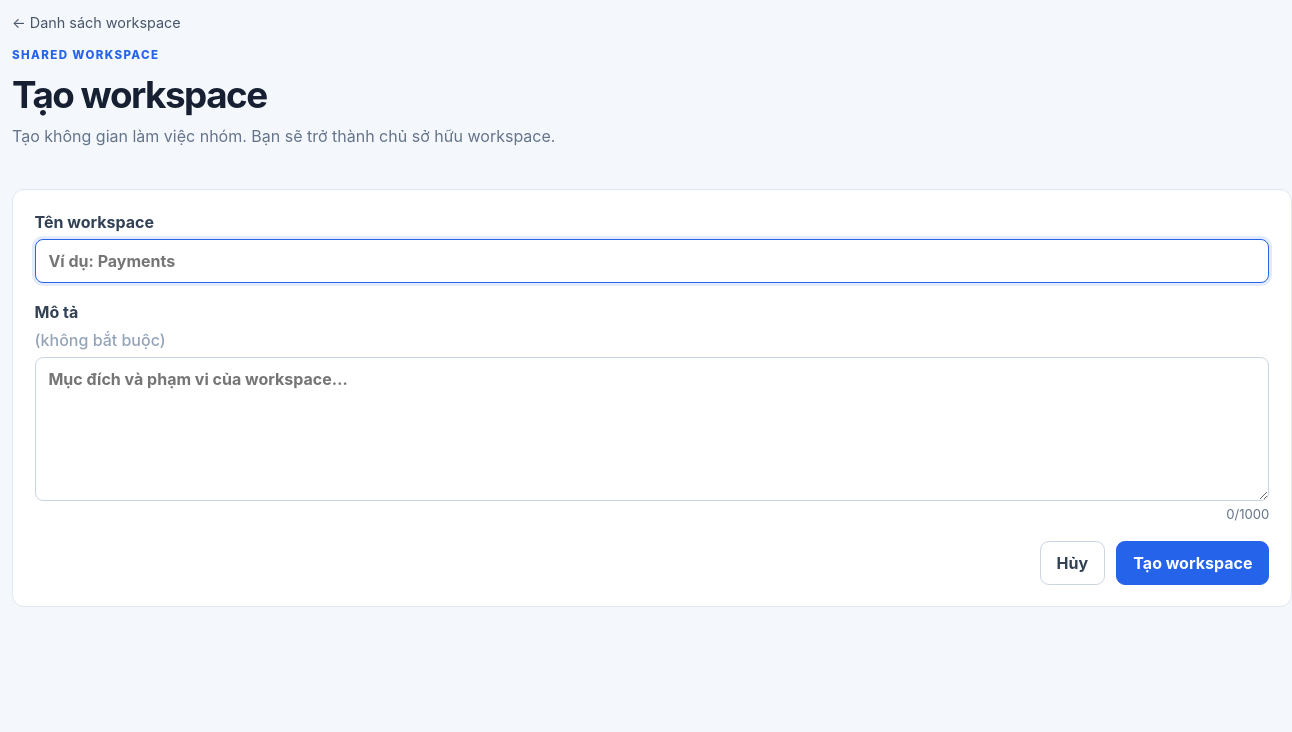
Test: Create workspace › shows normalized API and field errors when creation fails
This screenshot has width=1292, height=732.
Type "Payments" into the field labelled "Tên workspace" at {"x": 652, "y": 261}, box [35,239,1269,283]
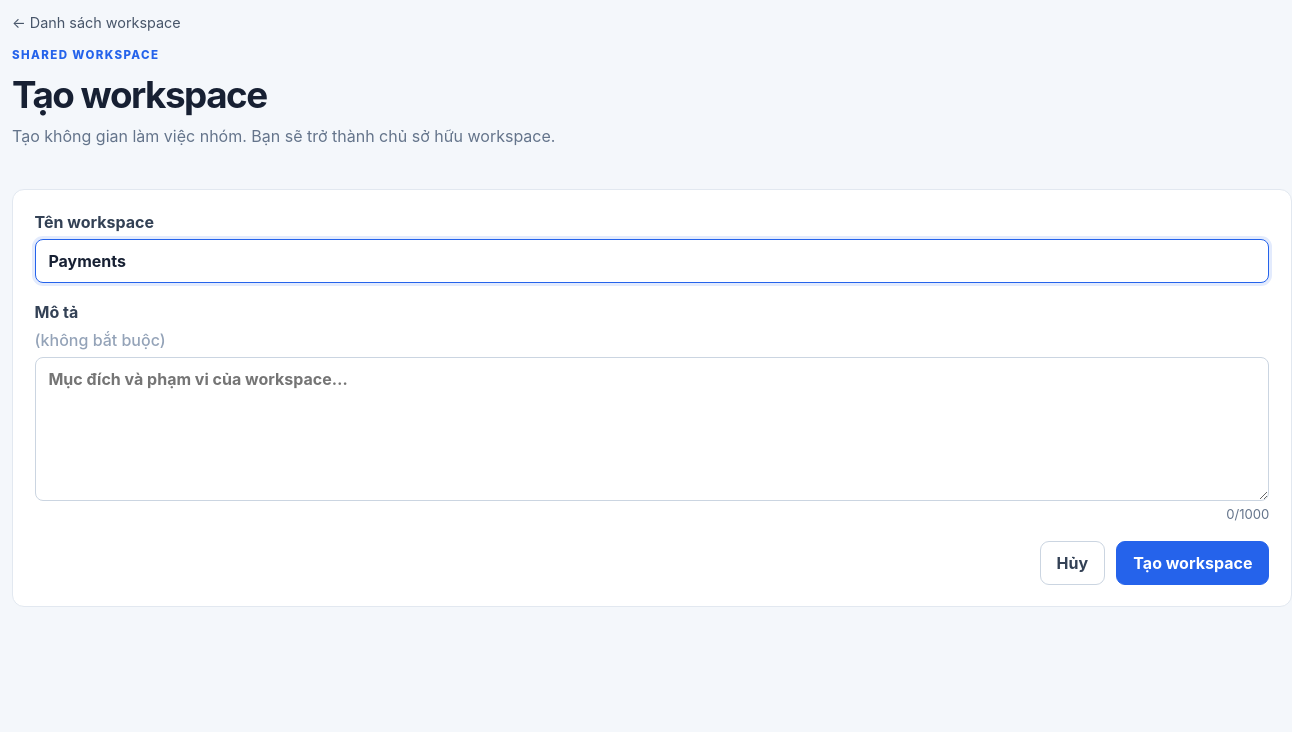
Click the button "Tạo workspace" at {"x": 1193, "y": 563}, box [1116,541,1269,585]
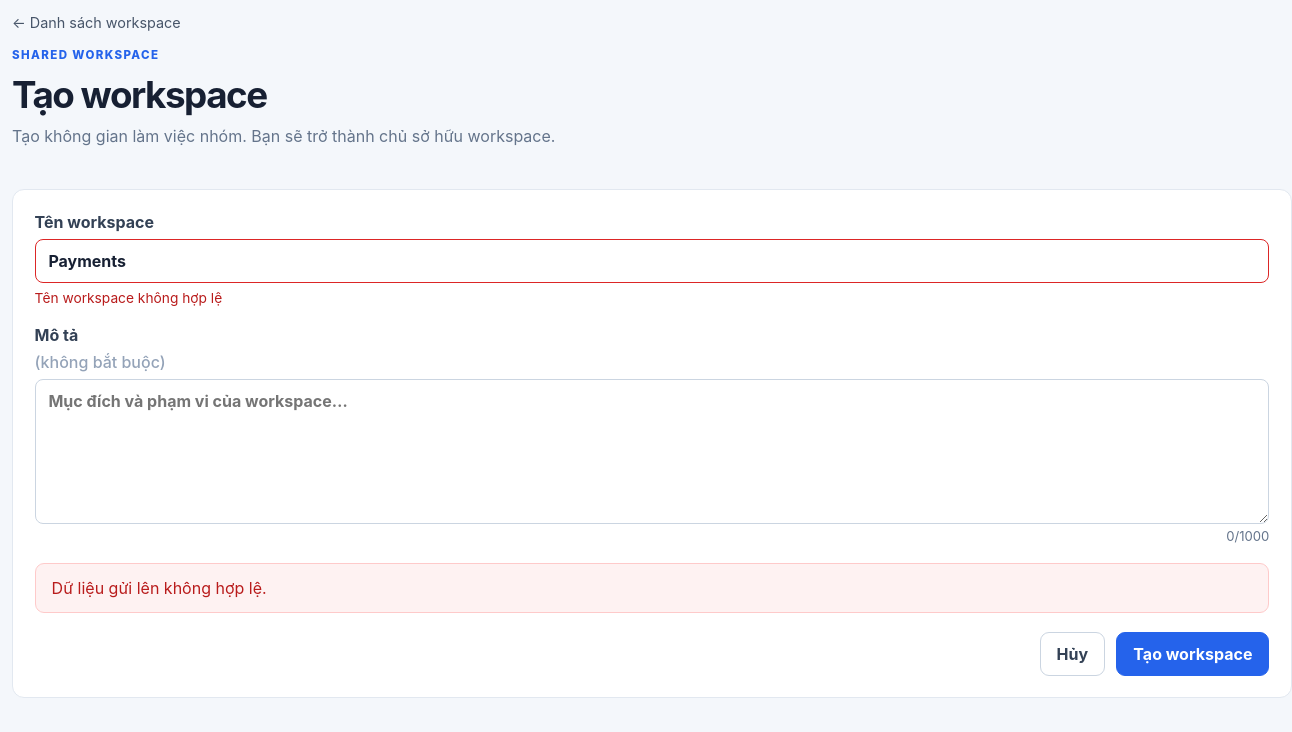
Result: the message reads "Dữ liệu gửi lên không hợp lệ." at [52,578,267,598]
Result: the text "Tên workspace không hợp lệ" is shown at [35,290,222,306]
